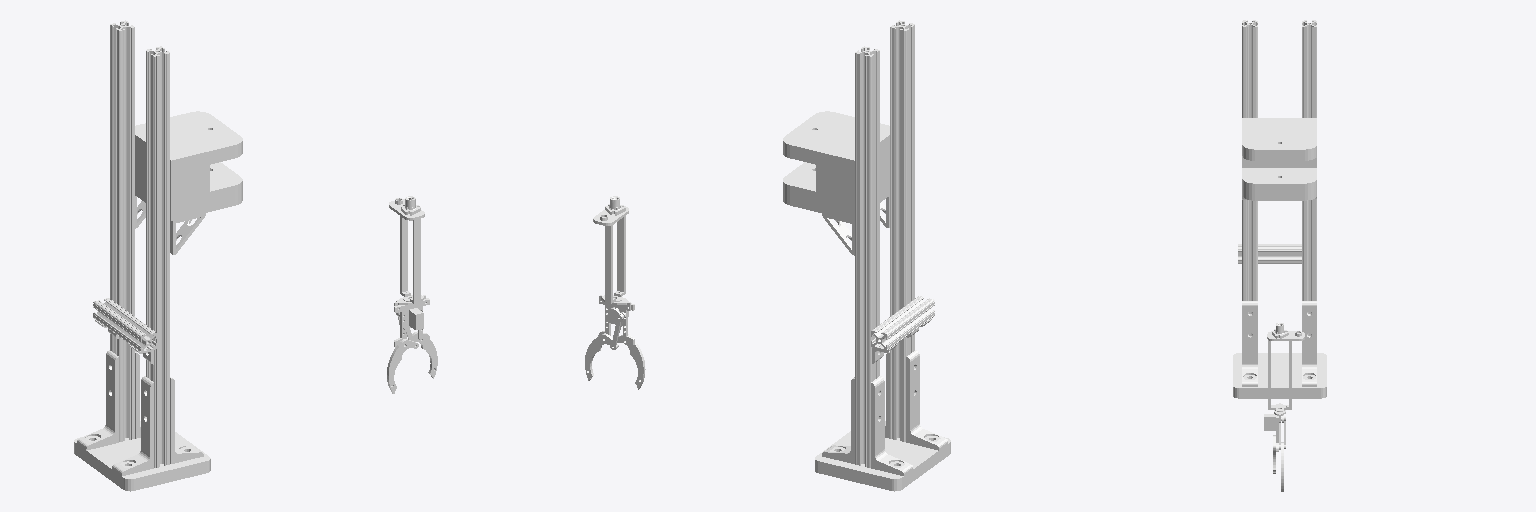
robot.urdf — Robot_Scara_2.2_v.3:
<?xml version="1.0" encoding="utf-8"?>
<!-- This URDF was automatically created by SolidWorks to URDF Exporter! Originally created by [author] ([email redacted]) 
     Commit Version: 1.5.1-0-g916b5db  Build Version: 1.5.7152.31018
     For more information, please see http://wiki.ros.org/sw_urdf_exporter -->
<robot
  name="Robot_Scara_2.2_v.3">
  <link
    name="base_link">
    <inertial>
      <origin
        xyz="0.0245 -0.0001542 0.21373"
        rpy="0 0 0" />
      <mass
        value="2.5675" />
      <inertia
        ixx="0.0068861"
        ixy="5.4055E-11"
        ixz="5.5326E-05"
        iyy="0.0063943"
        iyz="-3.5928E-12"
        izz="0.0057933" />
    </inertial>
    <visual>
      <origin
        xyz="0 0 0"
        rpy="0 0 0" />
      <geometry>
        <mesh
          filename="package://Robot_Scara_2.2_v.3/meshes/base_link.STL" />
      </geometry>
      <material
        name="">
        <color
          rgba="1 1 1 0.32" />
      </material>
    </visual>
    <collision>
      <origin
        xyz="0 0 0"
        rpy="0 0 0" />
      <geometry>
        <mesh
          filename="package://Robot_Scara_2.2_v.3/meshes/base_link.STL" />
      </geometry>
    </collision>
  </link>
  <link
    name="Link1">
    <inertial>
      <origin
        xyz="0.117407025872708 -1.25359334024466E-10 -0.0275548145030767"
        rpy="0 0 0" />
      <mass
        value="0.569125964077184" />
      <inertia
        ixx="0.000395436813571713"
        ixy="5.37455804832472E-13"
        ixz="0.000124545644672777"
        iyy="0.00223952834304756"
        iyz="3.55030681447781E-13"
        izz="0.00211092523046064" />
    </inertial>
    <visual>
      <origin
        xyz="0 0 0"
        rpy="0 0 0" />
      <geometry>
        <mesh
          filename="package://Robot_Scara_2.2_v.3/meshes/Link1.STL" />
      </geometry>
      <material
        name="">
        <color
          rgba="1 1 1 1" />
      </material>
    </visual>
    <collision>
      <origin
        xyz="0 0 0"
        rpy="0 0 0" />
      <geometry>
        <mesh
          filename="package://Robot_Scara_2.2_v.3/meshes/Link1.STL" />
      </geometry>
    </collision>
  </link>
  <joint
    name="Joint1"
    type="revolute">
    <origin
      xyz="0.10571 -0.0001601 0.42988"
      rpy="0 0 0" />
    <parent
      link="base_link" />
    <child
      link="Link1" />
    <axis
      xyz="0 0 1" />
    <limit
      lower="-2"
      upper="2"
      effort="0"
      velocity="1" />
  </joint>
  <link
    name="Link2">
    <inertial>
      <origin
        xyz="0.0829498912742016 0.00283016633079733 0.00977088530359421"
        rpy="0 0 0" />
      <mass
        value="0.212874058038776" />
      <inertia
        ixx="6.57074308602495E-05"
        ixy="-1.74128836487361E-05"
        ixz="8.48237883077509E-06"
        iyy="0.000390393473487716"
        iyz="7.8422829842296E-07"
        izz="0.000425987376929657" />
    </inertial>
    <visual>
      <origin
        xyz="0 0 0"
        rpy="0 0 0" />
      <geometry>
        <mesh
          filename="package://Robot_Scara_2.2_v.3/meshes/Link2.STL" />
      </geometry>
      <material
        name="">
        <color
          rgba="1 1 1 1" />
      </material>
    </visual>
    <collision>
      <origin
        xyz="0 0 0"
        rpy="0 0 0" />
      <geometry>
        <mesh
          filename="package://Robot_Scara_2.2_v.3/meshes/Link2.STL" />
      </geometry>
    </collision>
  </link>
  <joint
    name="Joint2"
    type="revolute">
    <origin
      xyz="0.19 0 -0.0350000000000001"
      rpy="0 0 0" />
    <parent
      link="Link1" />
    <child
      link="Link2" />
    <axis
      xyz="0 0 1" />
    <limit
      lower="-2"
      upper="2"
      effort="0"
      velocity="1" />
  </joint>
  <link
    name="Tool">
    <inertial>
      <origin
        xyz="-4.27651823753372E-06 -0.00299987625965217 0.0348778462843223"
        rpy="0 0 0" />
      <mass
        value="0.023545411123381" />
      <inertia
        ixx="4.56549098366953E-05"
        ixy="-7.94158153472426E-09"
        ixz="-4.55664961256907E-09"
        iyy="4.00718283641911E-05"
        iyz="-3.17465425925388E-06"
        izz="6.99639144528093E-06" />
    </inertial>
    <visual>
      <origin
        xyz="0 0 0"
        rpy="0 0 0" />
      <geometry>
        <mesh
          filename="package://Robot_Scara_2.2_v.3/meshes/Tool.STL" />
      </geometry>
      <material
        name="">
        <color
          rgba="1 1 1 1" />
      </material>
    </visual>
    <collision>
      <origin
        xyz="0 0 0"
        rpy="0 0 0" />
      <geometry>
        <mesh
          filename="package://Robot_Scara_2.2_v.3/meshes/Tool.STL" />
      </geometry>
    </collision>
  </link>
  <joint
    name="Tool1"
    type="prismatic">
    <origin
      xyz="0.11999999995684 0 -0.142632388571877"
      rpy="-3.14159265358979 0 0" />
    <parent
      link="Link2" />
    <child
      link="Tool" />
    <axis
      xyz="0 0 1" />
    <limit
      lower="0"
      upper="0.06"
      effort="0"
      velocity="0.075" />
  </joint>
  <link
    name="Link_4">
    <inertial>
      <origin
        xyz="-0.000623533590957182 0.00434070055352537 0.0430465440289566"
        rpy="0 0 0" />
      <mass
        value="0.0317141760755607" />
      <inertia
        ixx="7.93928844844214E-06"
        ixy="-2.50593233841958E-12"
        ixz="-1.72426138157143E-07"
        iyy="1.11018333375248E-05"
        iyz="-4.41698963488257E-08"
        izz="4.27099015161773E-06" />
    </inertial>
    <visual>
      <origin
        xyz="0 0 0"
        rpy="0 0 0" />
      <geometry>
        <mesh
          filename="package://Robot_Scara_2.2_v.3/meshes/Link_4.STL" />
      </geometry>
      <material
        name="">
        <color
          rgba="1 1 1 0.32" />
      </material>
    </visual>
    <collision>
      <origin
        xyz="0 0 0"
        rpy="0 0 0" />
      <geometry>
        <mesh
          filename="package://Robot_Scara_2.2_v.3/meshes/Link_4.STL" />
      </geometry>
    </collision>
  </link>
  <joint
    name="Revolute4"
    type="revolute">
    <origin
      xyz="0.000137010640409274 0 0.125"
      rpy="0 0 0" />
    <parent
      link="Tool" />
    <child
      link="Link_4" />
    <axis
      xyz="0 0 1" />
    <limit
      lower="-1.57"
      upper="1.57"
      effort="0"
      velocity="0.5" />
  </joint>
  <link
    name="RigidBody">
    <inertial>
      <origin
        xyz="-1.5837449969025E-05 -0.0109655938473857 -0.0707365158487714"
        rpy="0 0 0" />
      <mass
        value="0.0516096083407531" />
      <inertia
        ixx="9.35418438432533E-05"
        ixy="4.09021495361255E-12"
        ixz="1.90900339264504E-10"
        iyy="9.35989189378686E-05"
        iyz="3.12076345540329E-10"
        izz="5.9086012596584E-07" />
    </inertial>
    <visual>
      <origin
        xyz="0 0 0"
        rpy="0 0 0" />
      <geometry>
        <mesh
          filename="package://Robot_Scara_2.2_v.3/meshes/RigidBody.STL" />
      </geometry>
      <material
        name="">
        <color
          rgba="1 1 1 1" />
      </material>
    </visual>
    <collision>
      <origin
        xyz="0 0 0"
        rpy="0 0 0" />
      <geometry>
        <mesh
          filename="package://Robot_Scara_2.2_v.3/meshes/RigidBody.STL" />
      </geometry>
    </collision>
  </link>
  <joint
    name="Fixed_Body"
    type="fixed">
    <origin
      xyz="0.11999999995684 0 -0.142632388571877"
      rpy="-3.14159265358979 0 0" />
    <parent
      link="Link2" />
    <child
      link="RigidBody" />
    <axis
      xyz="0 0 0" />
    <limit
      lower="0"
      upper="0"
      effort="0"
      velocity="0" />
    <safety_controller
      soft_upper="0"
      soft_lower="0"
      k_position="0"
      k_velocity="0" />
  </joint>
</robot>

--- What the picture shows (computed from the rendered views, not written in the file) ---
3 views of the same robot in one strip: view 1: azimuth 30°, elevation 25°; view 2: azimuth 150°, elevation 25°; view 3: azimuth 270°, elevation 25° (orthographic).
Robot: Robot_Scara_2.2_v.3 — 6 links, 5 joints (3 revolute, 1 prismatic, 1 fixed); root link base_link; default pose: every joint at zero.
Links seen in each view (by area): view 1: base_link, Link_4, Tool; view 2: base_link, Link_4, Tool; view 3: base_link, Tool, Link_4.
Link boxes in pixels (x1,y1,x2,y2): base_link: [74, 20, 242, 491]; Link_4: [387, 295, 437, 393]; Tool: [389, 196, 424, 303]; base_link: [783, 20, 950, 491]; Link_4: [585, 295, 645, 389]; Tool: [593, 196, 628, 303]; base_link: [1233, 20, 1326, 398]; Tool: [1267, 323, 1304, 409]; Link_4: [1264, 403, 1285, 491].
Size in the robot's own frame: 0.5255 by 0.15 by 0.6276 metres.
3 mesh visuals loaded from 6 distinct referenced files (3 binary STL); not drawn: 3 (reference not matched to a file when rendering).